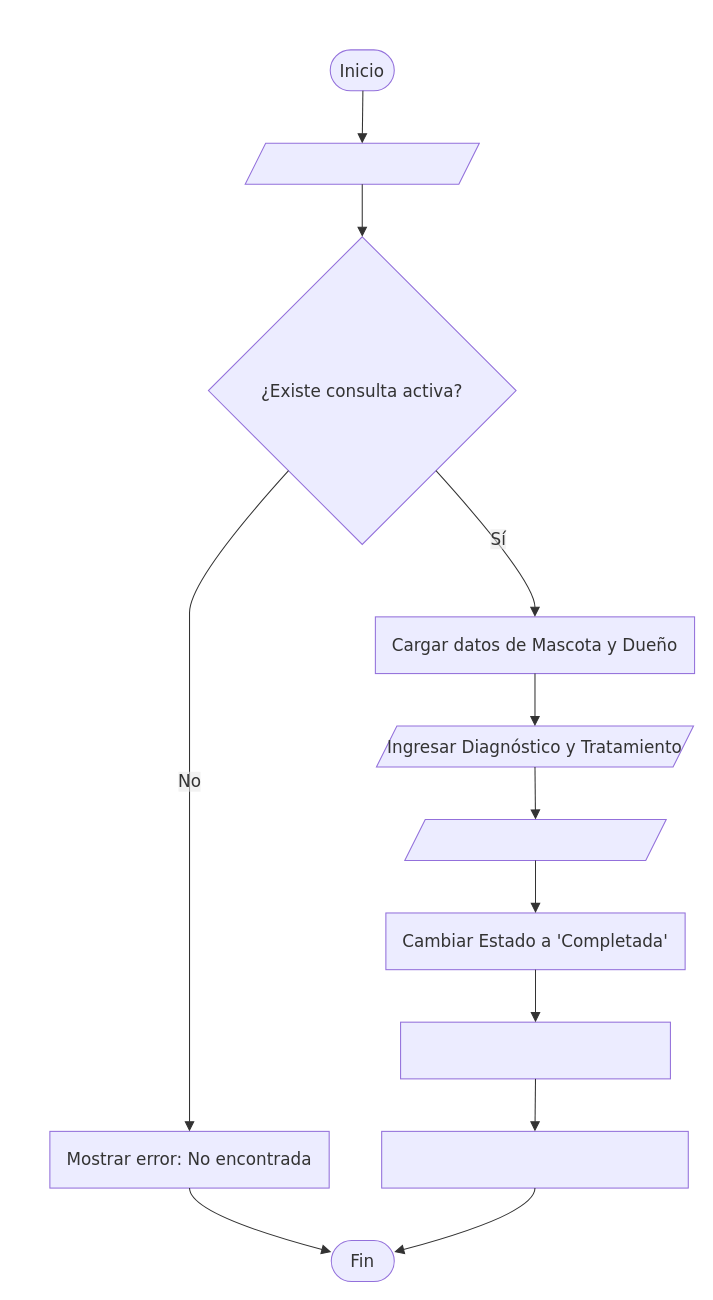
Image size: 713x1300. Some labels were removed from this diagram. Here are the shapes that lost their labels. From the top down, the box of each, then its label:
(244, 142, 479, 184): Ingresar ID de Consulta
(404, 818, 666, 860): Ingresar Costo de Consulta
(400, 1021, 670, 1079): Guardar en Historial Clínico
(381, 1130, 688, 1188): Mostrar confirmación en pantalla
